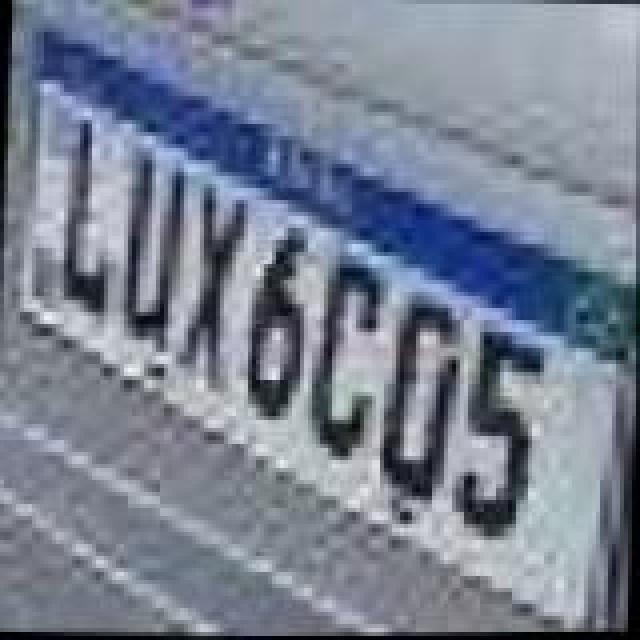5: (446, 316, 550, 540)
6: (242, 218, 314, 426)
C: (298, 256, 382, 464)
D: (374, 300, 466, 508)
L: (56, 112, 116, 316)
U: (116, 158, 188, 354)
X: (166, 184, 250, 380)
